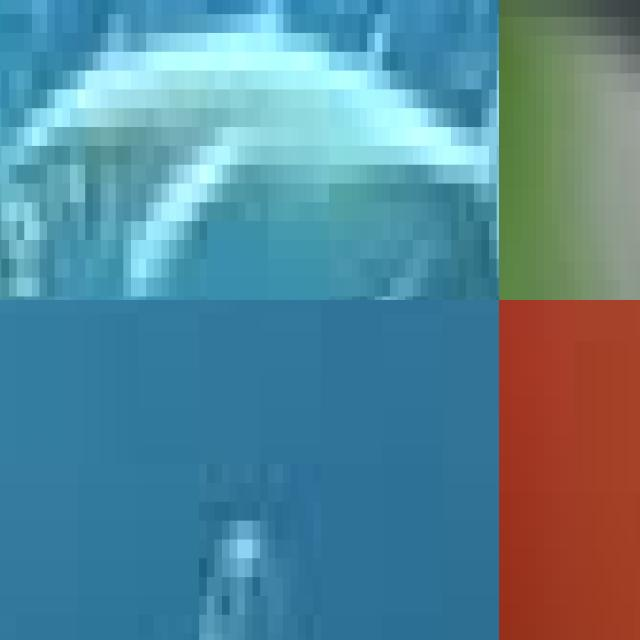fish: (0, 0, 499, 300)
